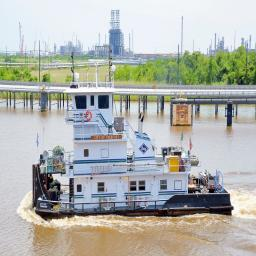tugboat: (31, 62, 237, 224)
